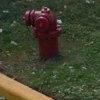Hydrant: (18, 3, 73, 57)
